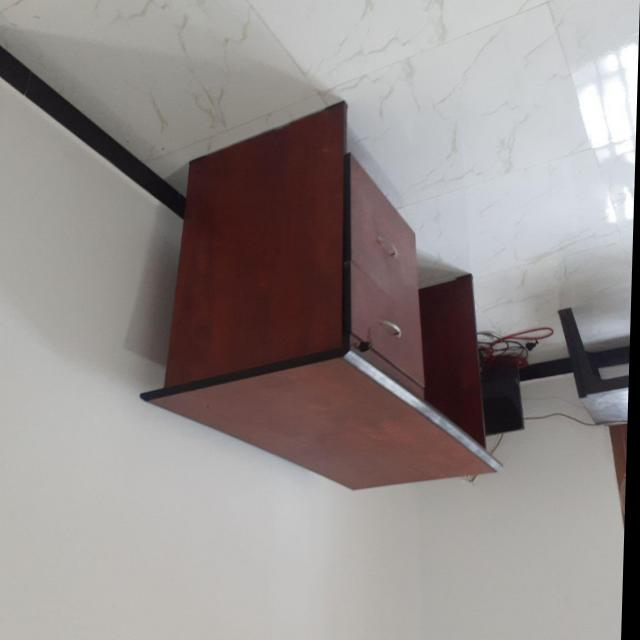Table: (119, 76, 531, 499)
